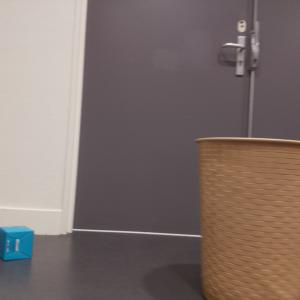medium: (195, 137, 300, 300)
small: (1, 225, 34, 261)
